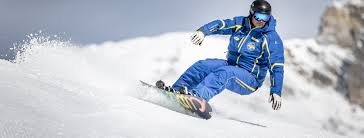snowboard: (134, 78, 214, 121)
